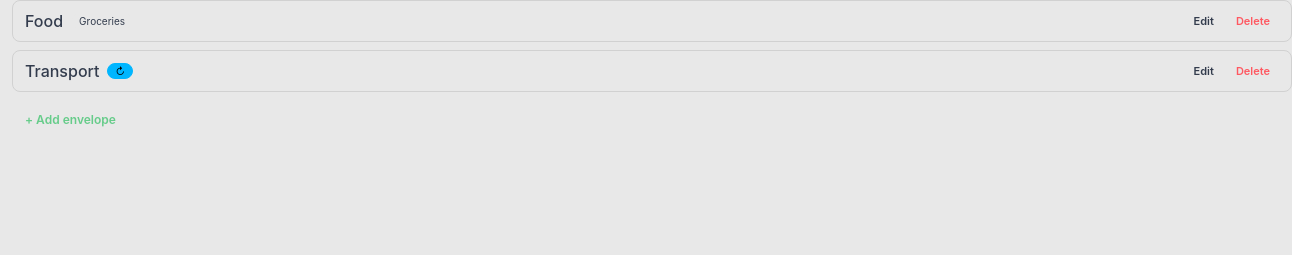
Scenario: EnvelopeManager › opens add form on "+ Add envelope" click
Click the button "+ Add envelope": (70, 120) [12,104,129,136]
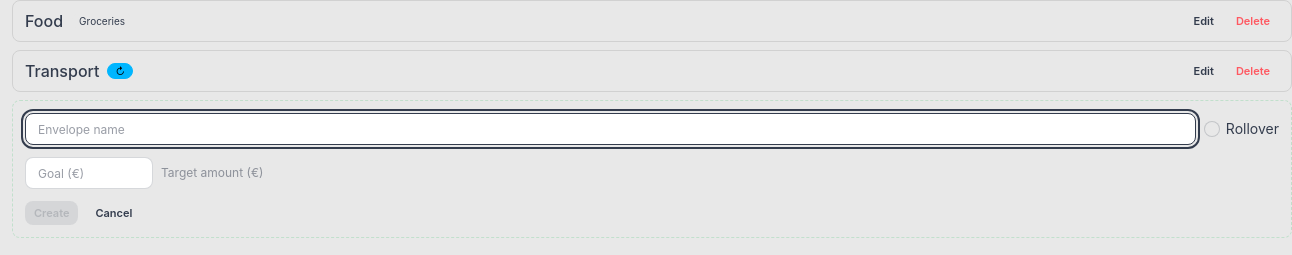
Check: the field with placeholder "Envelope name" is shown, box [25,113,1196,145]
